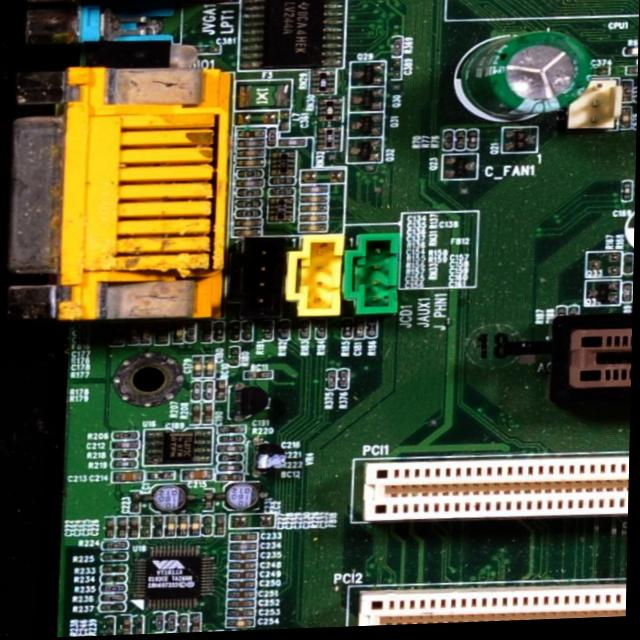IC: (240, 0, 344, 72), (138, 547, 216, 611), (146, 429, 215, 468)
capacitor: (115, 471, 147, 485), (149, 470, 179, 482), (194, 45, 221, 58), (237, 130, 268, 141), (233, 533, 264, 544), (184, 470, 214, 481), (230, 591, 260, 602), (235, 159, 265, 169), (231, 563, 261, 573), (301, 205, 330, 215), (229, 601, 258, 611), (230, 610, 259, 620), (181, 516, 194, 538), (220, 426, 248, 436), (168, 516, 180, 539), (238, 150, 268, 159), (231, 554, 261, 563), (194, 357, 206, 379), (204, 356, 215, 380), (216, 516, 228, 538), (238, 141, 267, 150), (236, 220, 265, 229), (231, 544, 260, 553), (236, 229, 262, 239), (232, 581, 258, 591), (301, 188, 328, 197), (301, 197, 328, 206), (220, 446, 247, 455), (232, 572, 259, 581), (144, 518, 156, 537), (238, 180, 263, 189), (230, 621, 255, 630), (281, 112, 291, 134), (143, 324, 154, 344), (133, 491, 143, 513), (194, 515, 204, 537), (194, 614, 205, 634), (281, 140, 308, 148), (157, 516, 166, 540), (131, 324, 141, 345), (358, 320, 368, 341), (120, 517, 130, 538), (108, 518, 118, 539), (132, 517, 142, 538), (301, 226, 327, 234), (177, 321, 186, 344), (203, 324, 213, 344), (123, 615, 132, 636), (207, 492, 216, 512), (301, 217, 326, 224), (152, 633, 177, 635)
resistor: (103, 564, 131, 575), (114, 449, 141, 460), (238, 200, 264, 211), (263, 322, 276, 344), (102, 602, 128, 613), (192, 383, 206, 403), (113, 431, 141, 441), (220, 455, 248, 465), (104, 542, 132, 552), (105, 616, 118, 637), (191, 404, 203, 426), (204, 405, 216, 427), (317, 322, 330, 342), (135, 613, 146, 636), (343, 320, 355, 341), (111, 461, 139, 470), (238, 169, 263, 179), (104, 552, 129, 562), (106, 574, 131, 584), (103, 593, 128, 603), (232, 346, 244, 366), (326, 372, 338, 392), (104, 583, 128, 593), (237, 190, 263, 199), (220, 436, 246, 445), (216, 320, 227, 341), (369, 320, 380, 341), (157, 613, 168, 634), (223, 464, 246, 474), (468, 133, 479, 153), (205, 517, 216, 537), (169, 612, 179, 634), (237, 210, 261, 219), (302, 322, 313, 341), (282, 324, 293, 343), (341, 372, 352, 391), (204, 382, 215, 401), (457, 133, 467, 153), (180, 614, 190, 634), (267, 131, 277, 150), (188, 323, 197, 343), (446, 134, 454, 154)
transistor: (503, 129, 539, 157), (443, 156, 479, 183), (350, 89, 385, 116), (349, 140, 383, 165), (351, 64, 383, 90), (349, 116, 383, 139)
